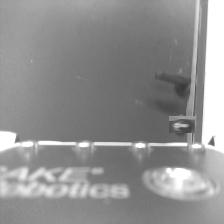Door Handle: (153, 70, 191, 98)
Lock: (171, 113, 193, 135)
